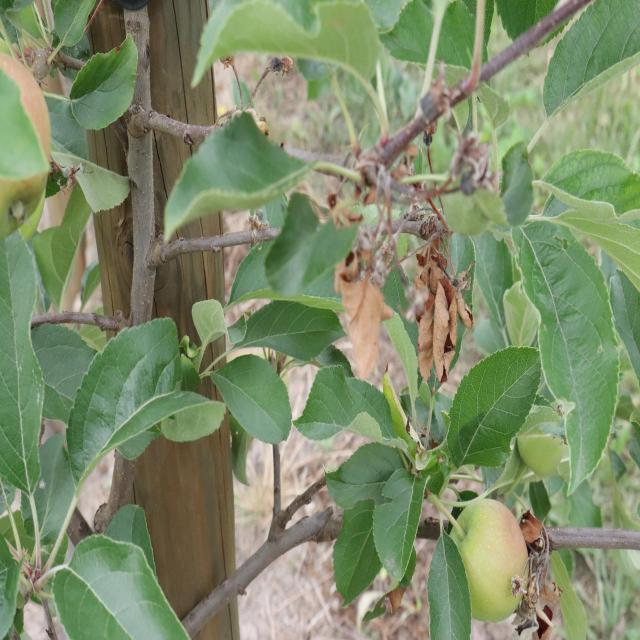-FireBlight-: (403, 255, 471, 373), (518, 512, 565, 640), (339, 259, 384, 375)
